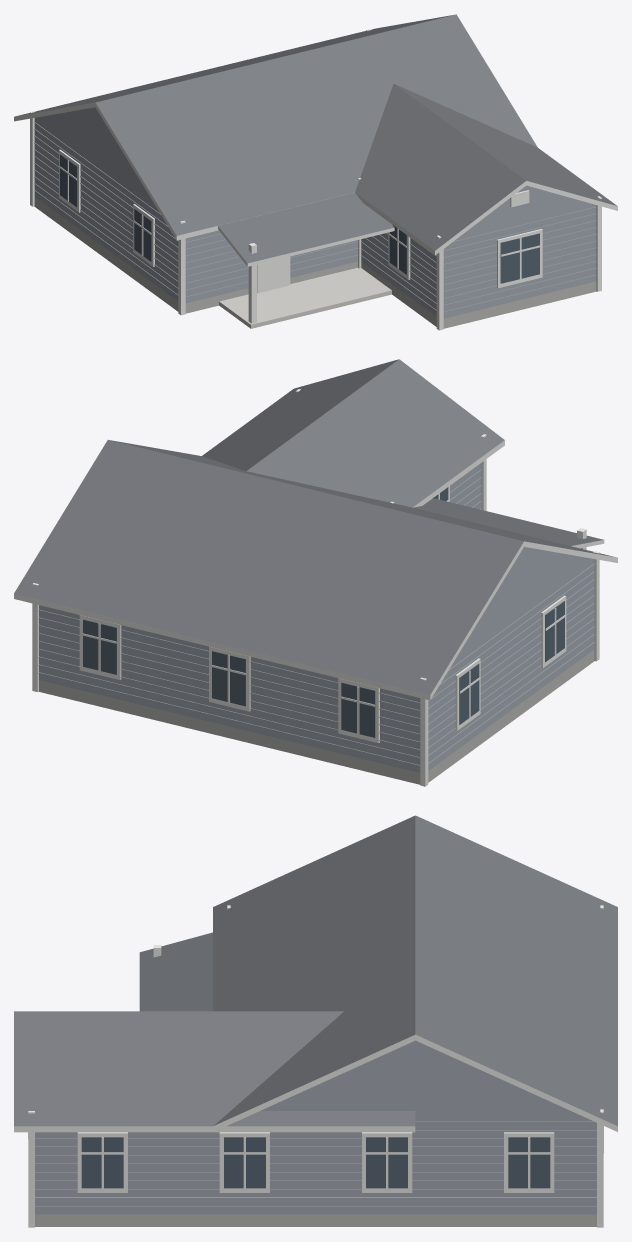
File: kingsburg-cottage.glb
The picture shows the model from 3 angles, top to bottom: view 1: azimuth 30°, elevation 25°; view 2: azimuth 150°, elevation 25°; view 3: azimuth 270°, elevation 25°; orthographic projection. The views are drawn at different scales.
Parts seen in each view (by area): view 1: The Kingsburg (cottage); view 2: The Kingsburg (cottage); view 3: The Kingsburg (cottage).
Part boxes in pixels (x1,y1,x2,y2): The Kingsburg (cottage): (14, 14, 617, 330); The Kingsburg (cottage): (14, 359, 617, 786); The Kingsburg (cottage): (14, 815, 617, 1227).
Bounding box in the file's own units: 11.12 × 4.73 × 12.95.
